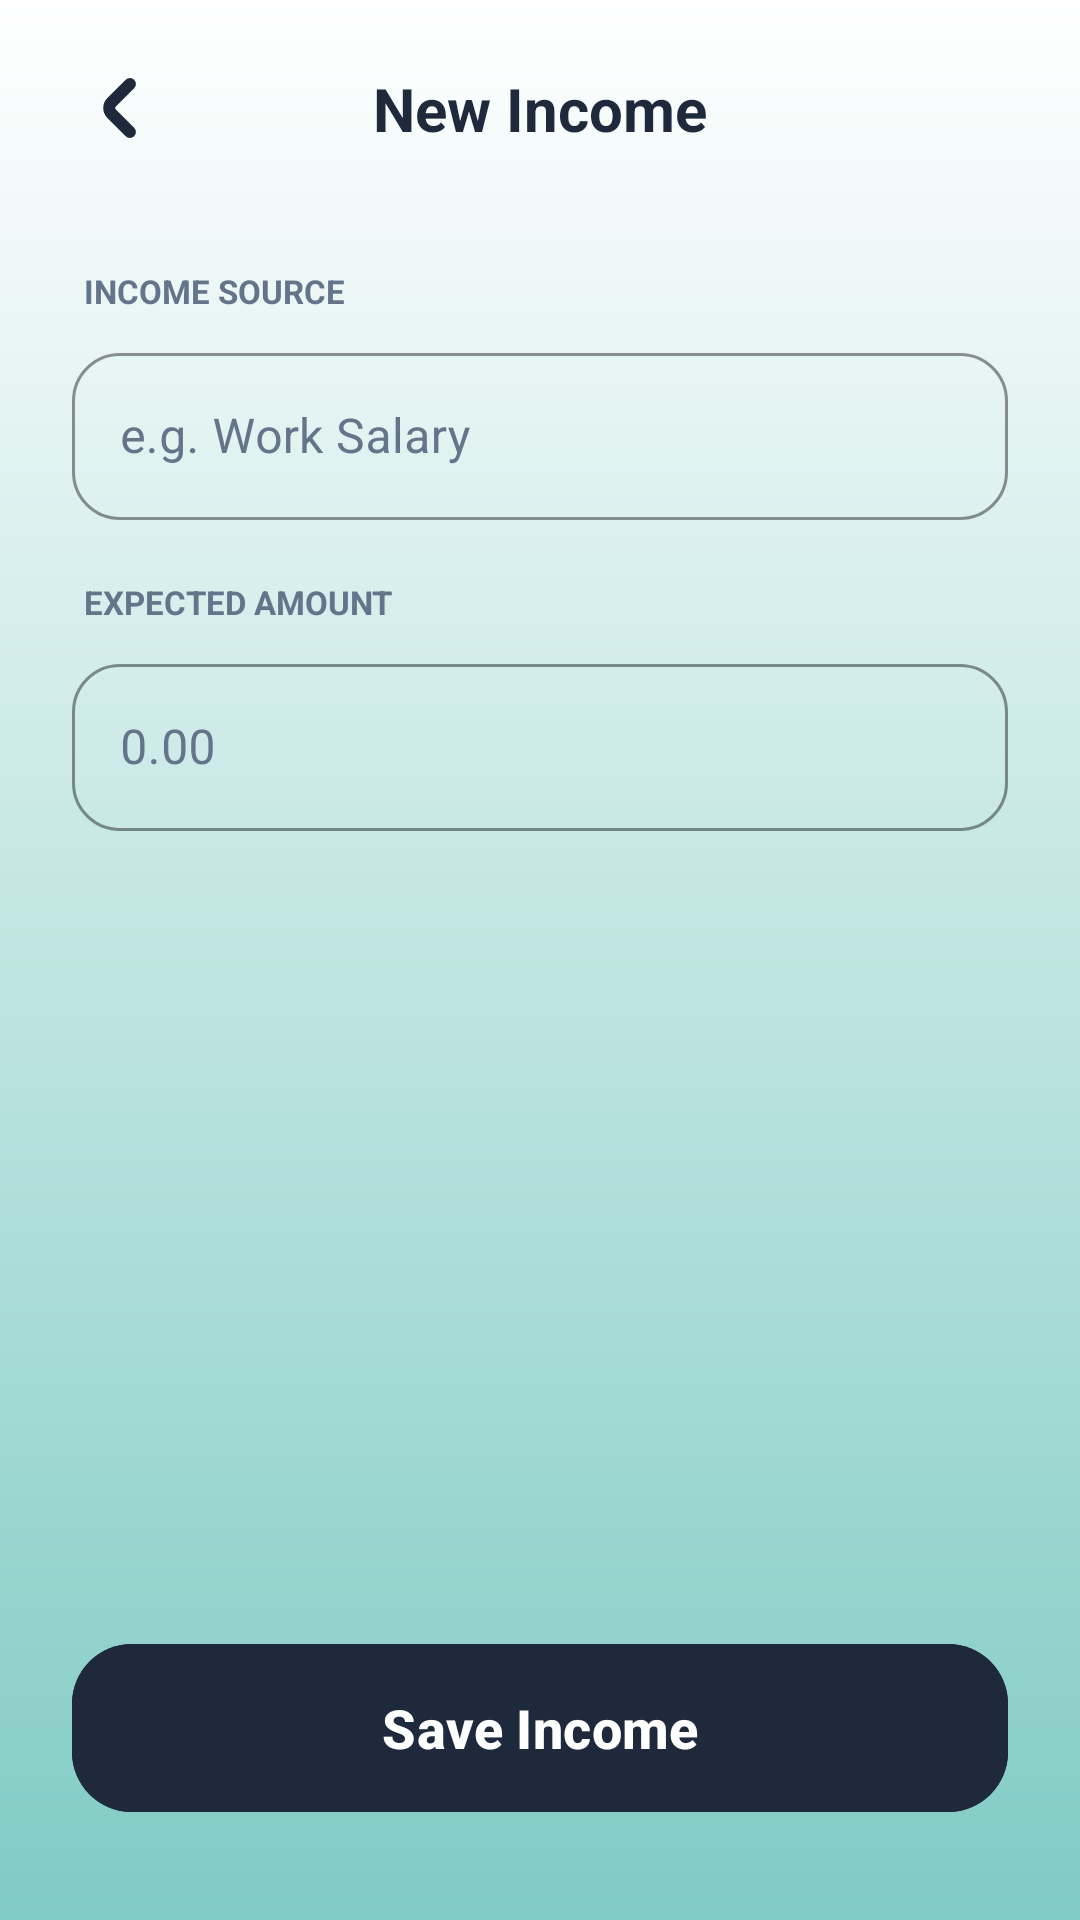

Screen size 1080px×1920px. Icon name, then its box in pixels as (x1, y1, x2, y2):
back: (103, 78, 136, 138)
